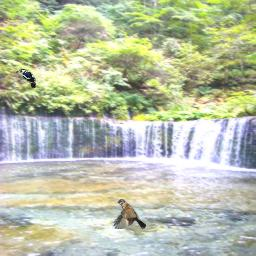Sparrow: (112, 199, 146, 229)
Woodpecker: (16, 69, 36, 88)
